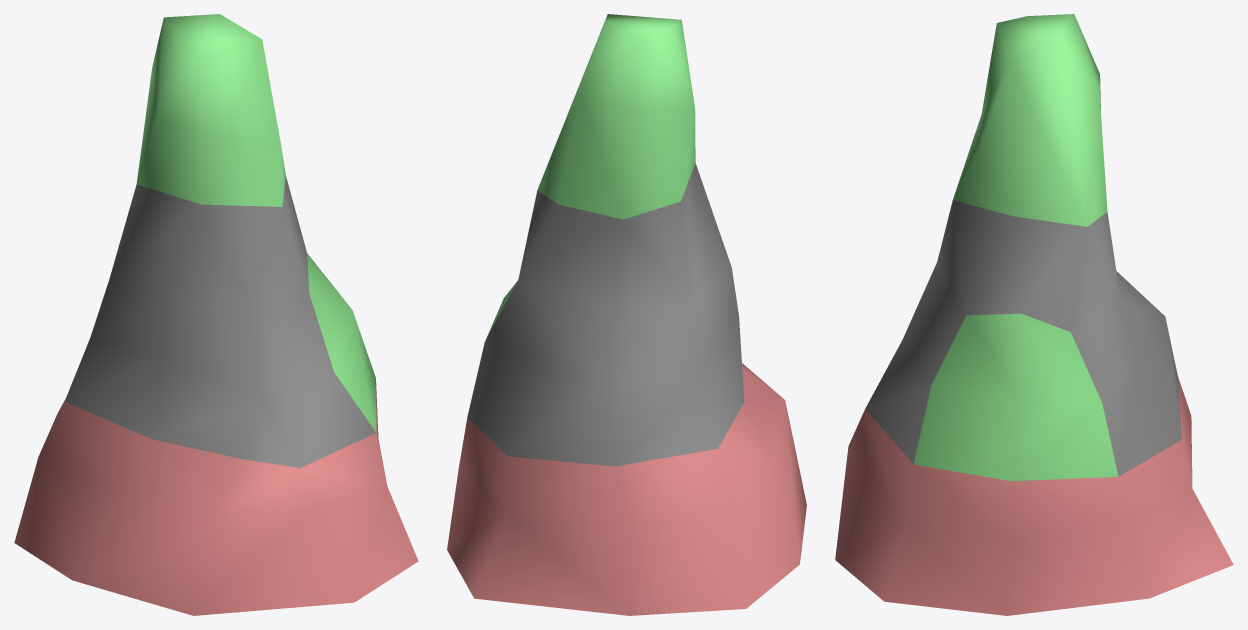
Rendered from field_deco_S__O_DEF_F_obj1.gltf.
3 renders of one model, left to right at view 1: azimuth 30°, elevation 25°; view 2: azimuth 150°, elevation 25°; view 3: azimuth 270°, elevation 25°, orthographic. The views are drawn at different scales.
Visible parts, largest first — view 1: O_DEF_F_obj1; view 2: O_DEF_F_obj1; view 3: O_DEF_F_obj1.
Boxes of the visible parts, x1,y1,x2,y2 form: O_DEF_F_obj1: [14, 14, 418, 615]; O_DEF_F_obj1: [447, 14, 806, 615]; O_DEF_F_obj1: [835, 14, 1233, 615].
Bounding box in the file's own units: 8.27 × 13 × 9.18.
